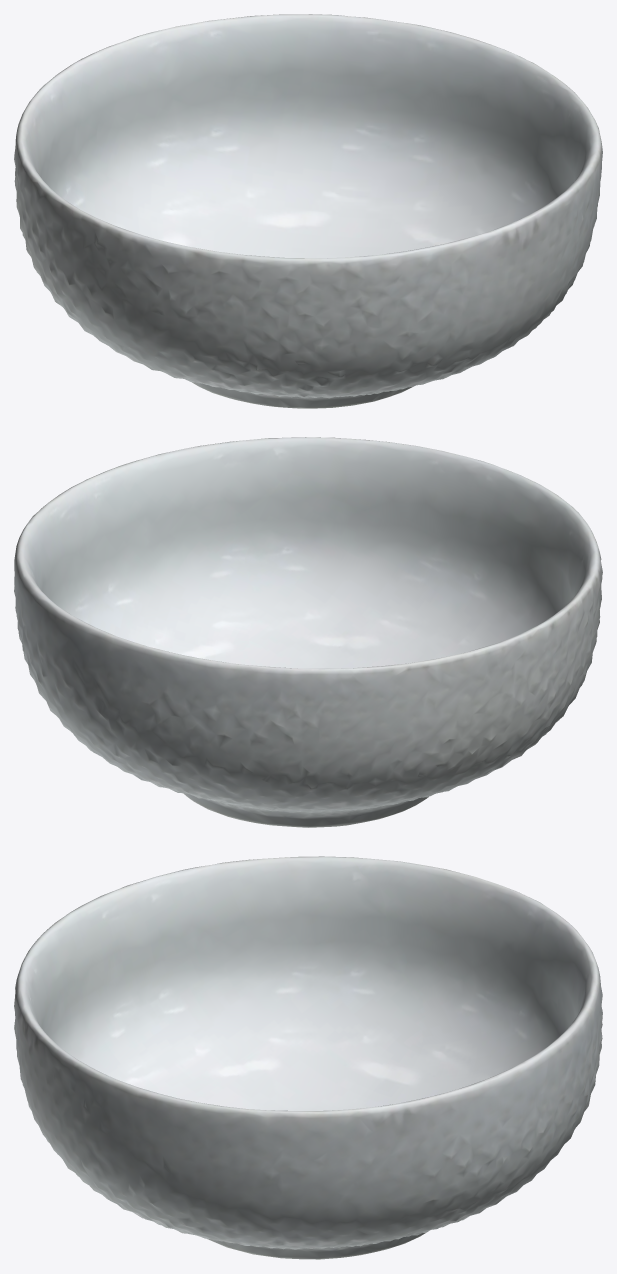
File: Threshold_Bead_Cereal_Bowl_White.glb
3 views of the same model, one above another, from view 1: azimuth 30°, elevation 25°; view 2: azimuth 150°, elevation 25°; view 3: azimuth 270°, elevation 25° (orthographic).
Visible parts, largest first — view 1: model.obj; view 2: model.obj; view 3: model.obj.
Part boxes in pixels (x1,y1,x2,y2): model.obj: [14, 14, 602, 408]; model.obj: [14, 437, 602, 827]; model.obj: [14, 856, 602, 1259].
Bounding box in the file's own units: 1 × 0.4166 × 0.9797.
Materials: 1 (1 with a texture image).
